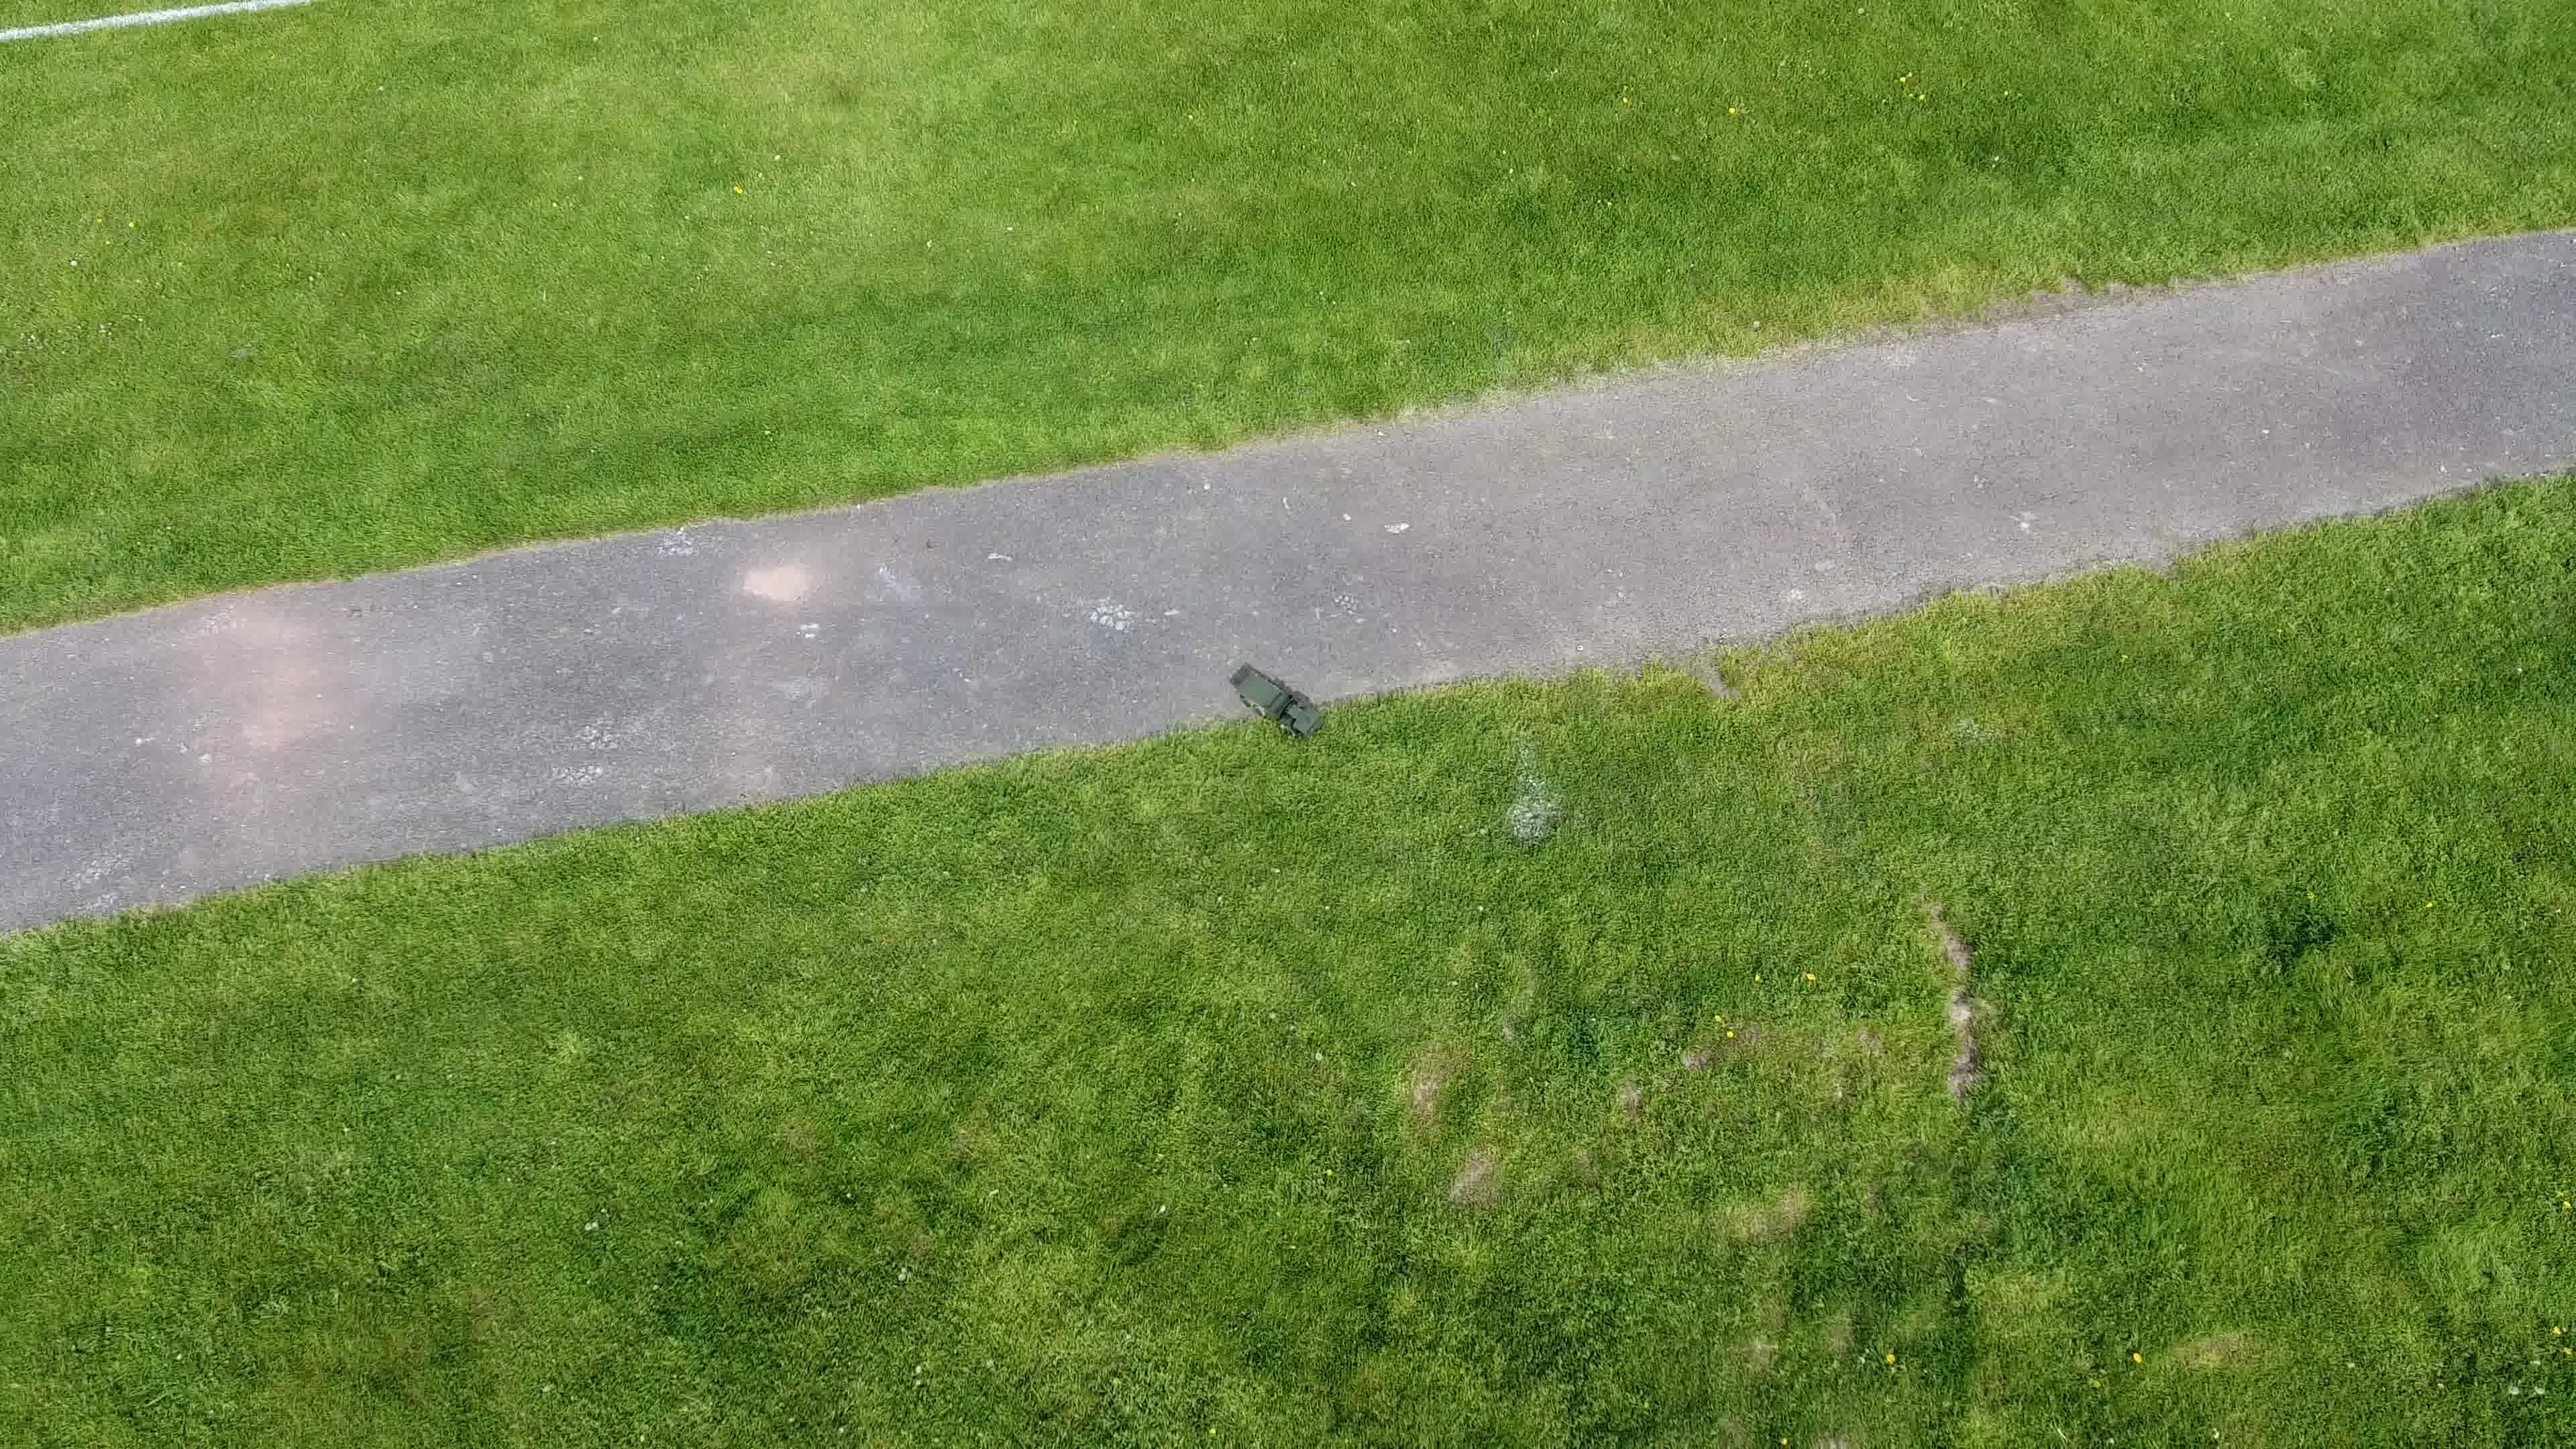transporter9: (1231, 665, 1327, 743)
